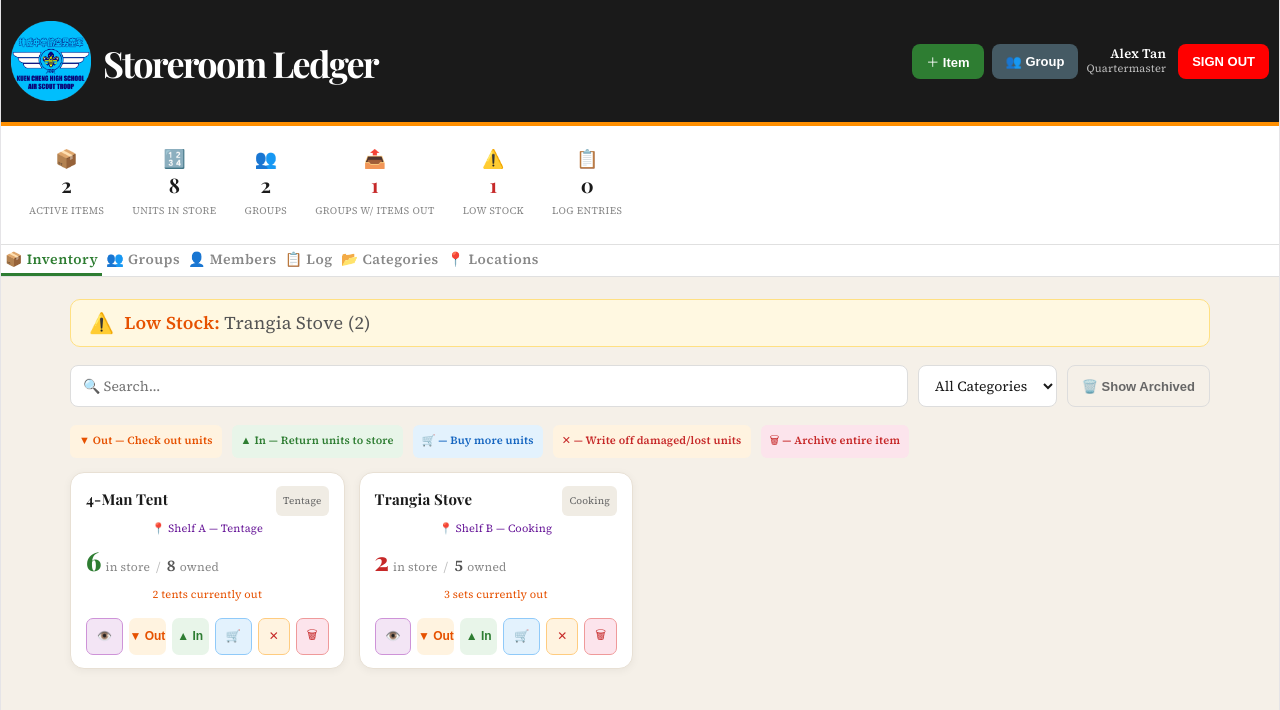
Scenario: inventory card opens the right modal › opens Item Details
Expected: the heading "4-Man Tent" is shown, left=86, top=486, right=168, bottom=512
Click the button titled "view item details" below "tents" at (104, 636), box left=86, top=618, right=123, bottom=655
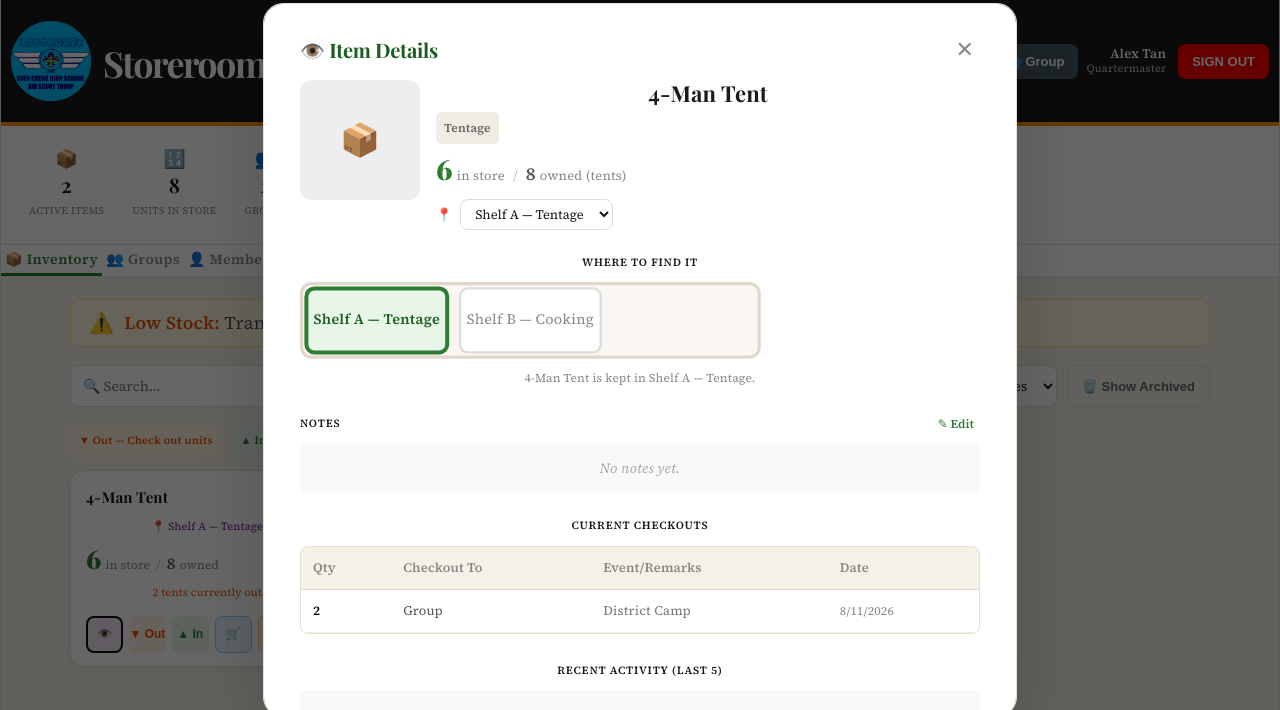
Expected: the heading "👁️ Item Details" is shown, left=300, top=38, right=438, bottom=62
